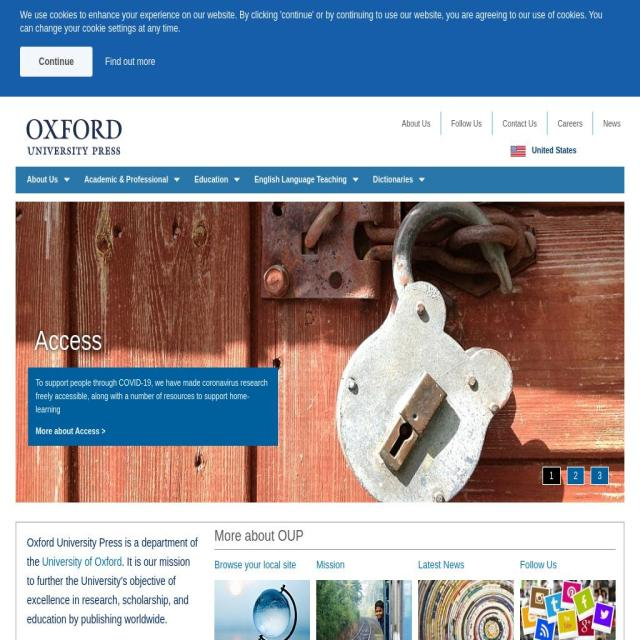button: (16, 202, 624, 503), (28, 366, 278, 446), (624, 202, 640, 506), (26, 119, 122, 156), (20, 46, 93, 76), (214, 558, 310, 572), (316, 558, 412, 572), (418, 558, 514, 572), (520, 558, 616, 572), (491, 112, 541, 135), (440, 112, 486, 135), (392, 112, 434, 135), (547, 112, 587, 135), (593, 112, 625, 135), (532, 145, 577, 155), (637, 368, 640, 434)
heading: (34, 322, 102, 358)
image: (16, 202, 624, 503), (214, 580, 310, 640), (316, 580, 412, 640), (418, 580, 514, 640), (520, 580, 616, 640), (624, 202, 640, 506), (26, 119, 122, 156), (510, 146, 526, 156)
link: (42, 555, 122, 569), (105, 54, 156, 68)
text: (20, 8, 614, 35), (28, 366, 278, 416), (27, 555, 190, 627), (214, 522, 616, 551), (27, 536, 197, 569), (28, 415, 278, 437), (248, 166, 366, 192), (78, 166, 188, 192), (366, 166, 432, 192), (188, 166, 248, 192), (21, 166, 77, 192), (532, 145, 577, 155), (566, 466, 585, 486), (542, 466, 560, 486), (590, 466, 608, 486), (637, 368, 640, 404), (637, 403, 640, 426)
